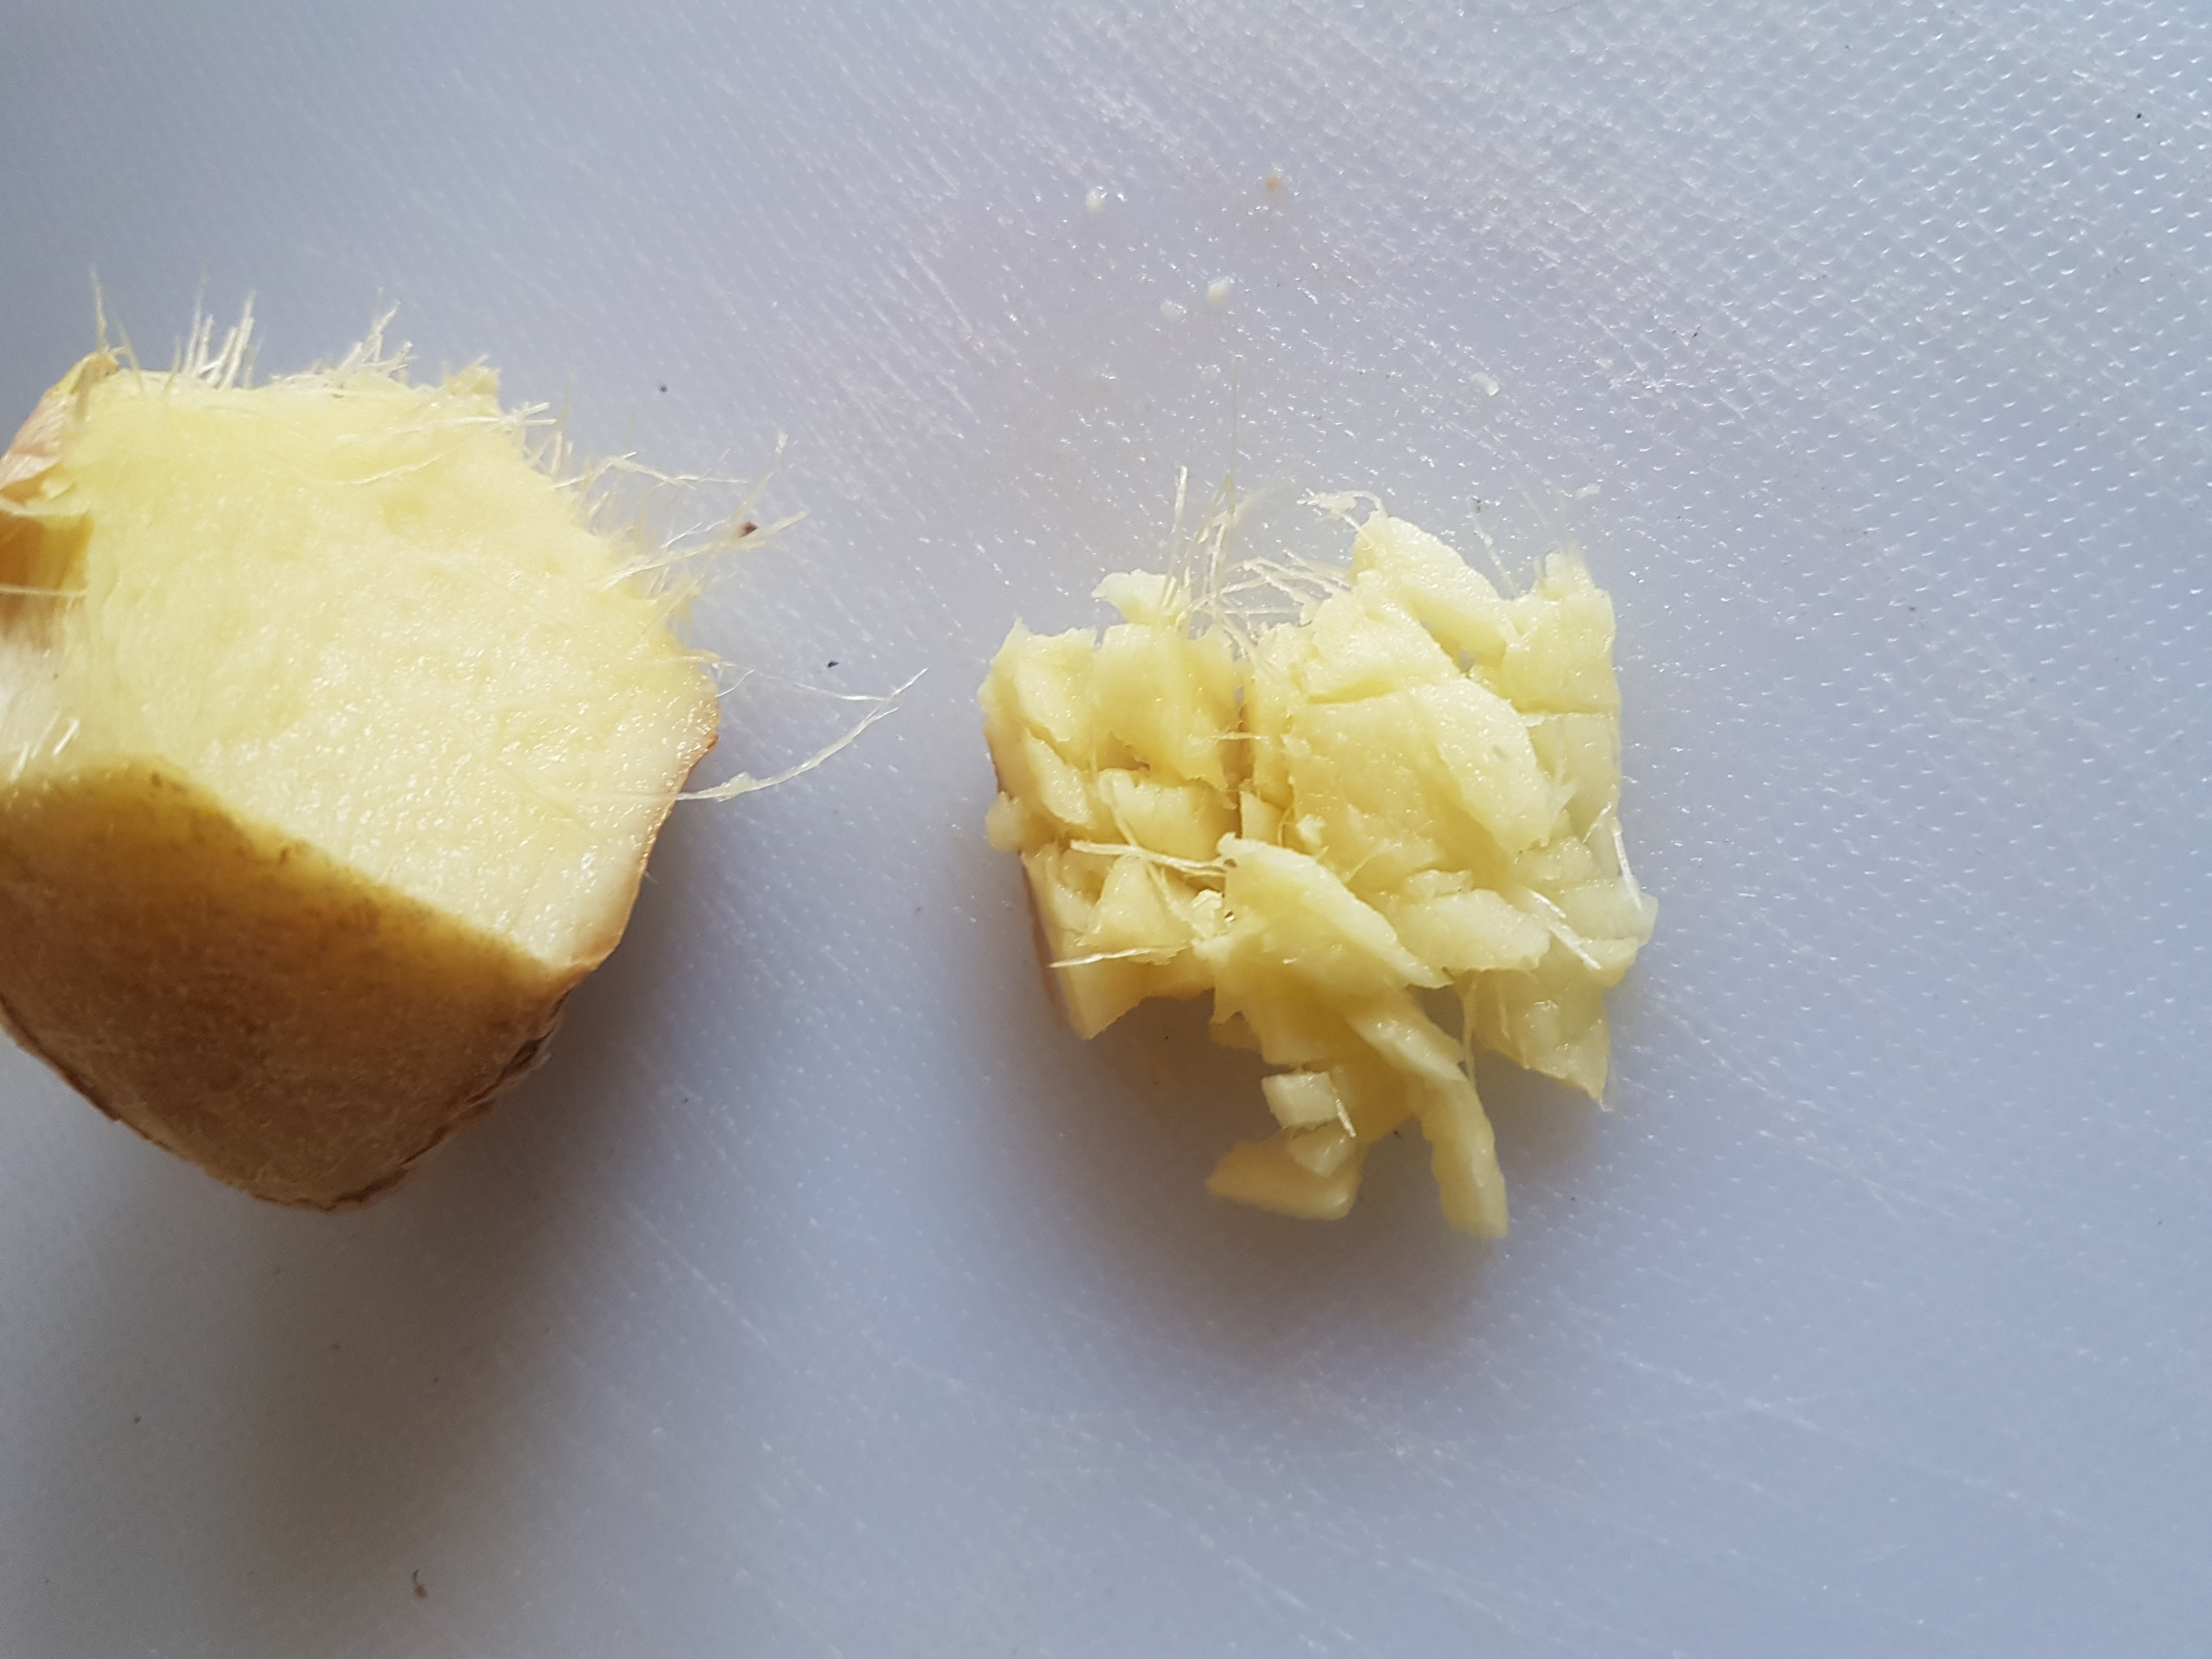Minced ginger: (2, 314, 759, 1269), (995, 605, 1684, 1244)
